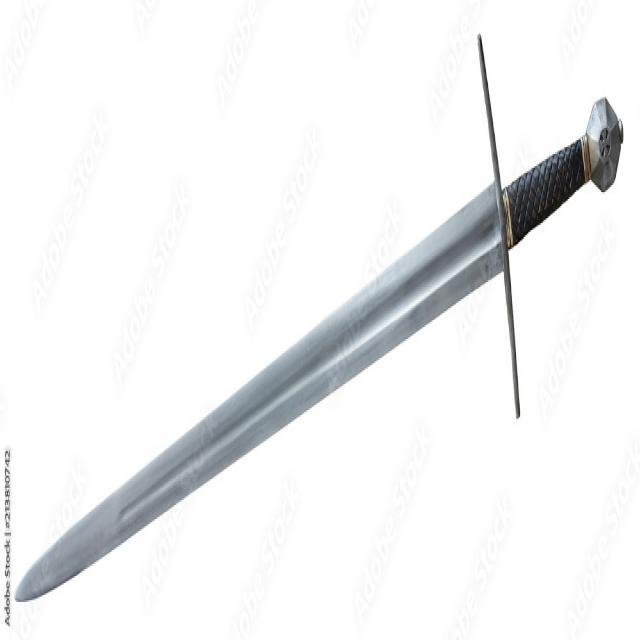sword: (17, 29, 625, 602)
